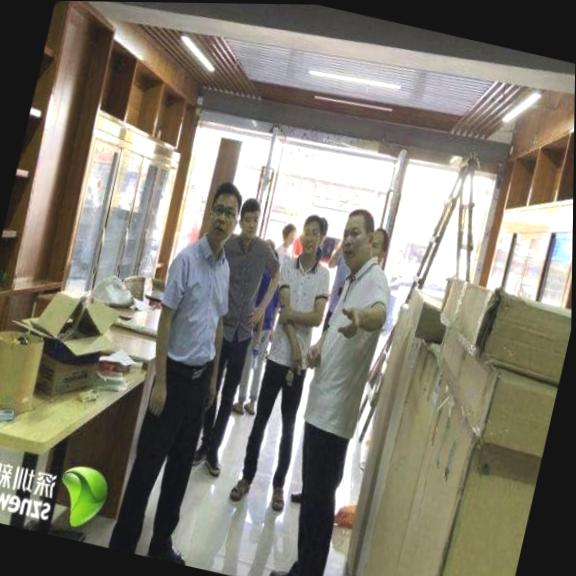no_safety_vest: (296, 253, 400, 444), (148, 226, 242, 374), (260, 251, 337, 373), (208, 229, 283, 346)
